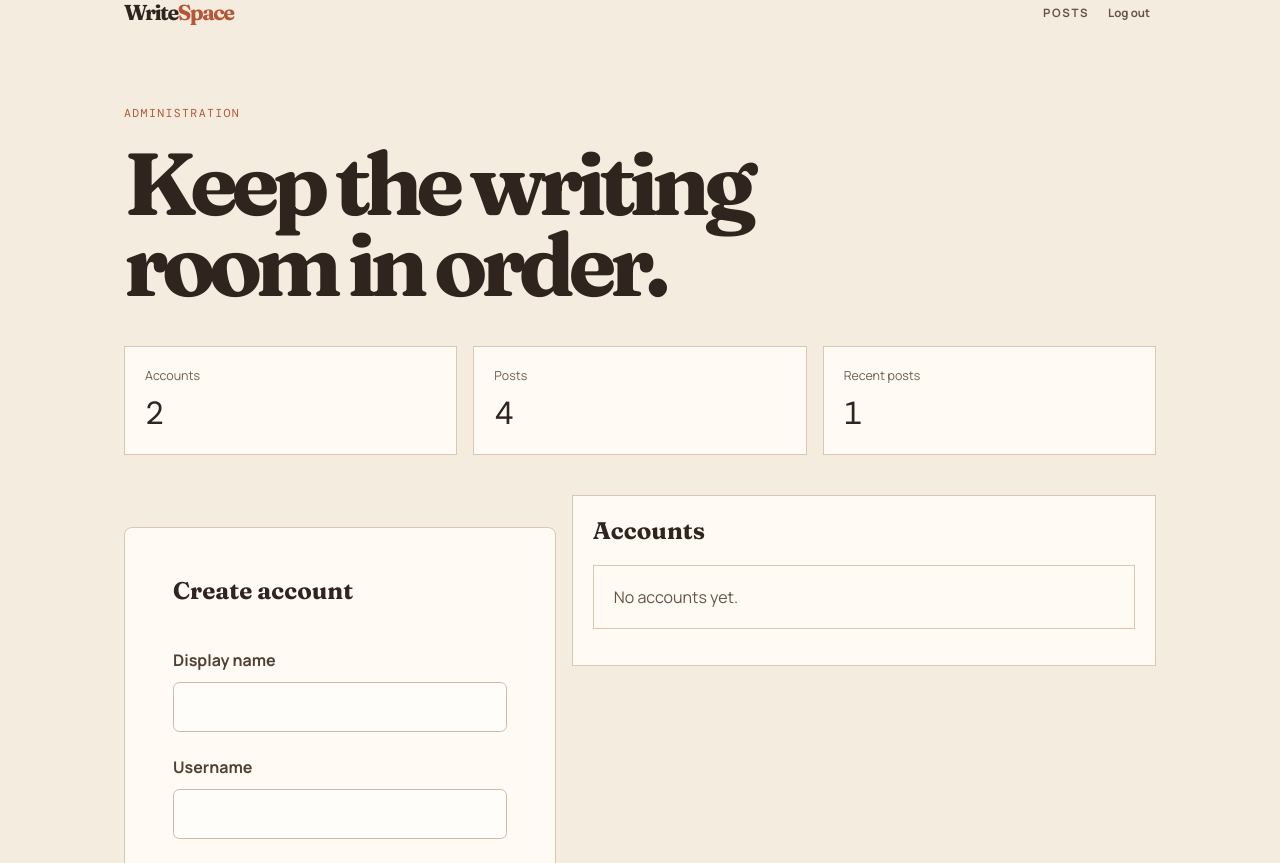
Test case: AdminPage › renders backend statistics and creates an accessible account form
Expected: the heading "Accounts" is shown, [593,516,705,545]
Expected: the text "4" is shown, [494,392,514,434]
Type "New Writer" into the field labelled "Display name" at coordinates (340, 707), box [173,682,507,732]
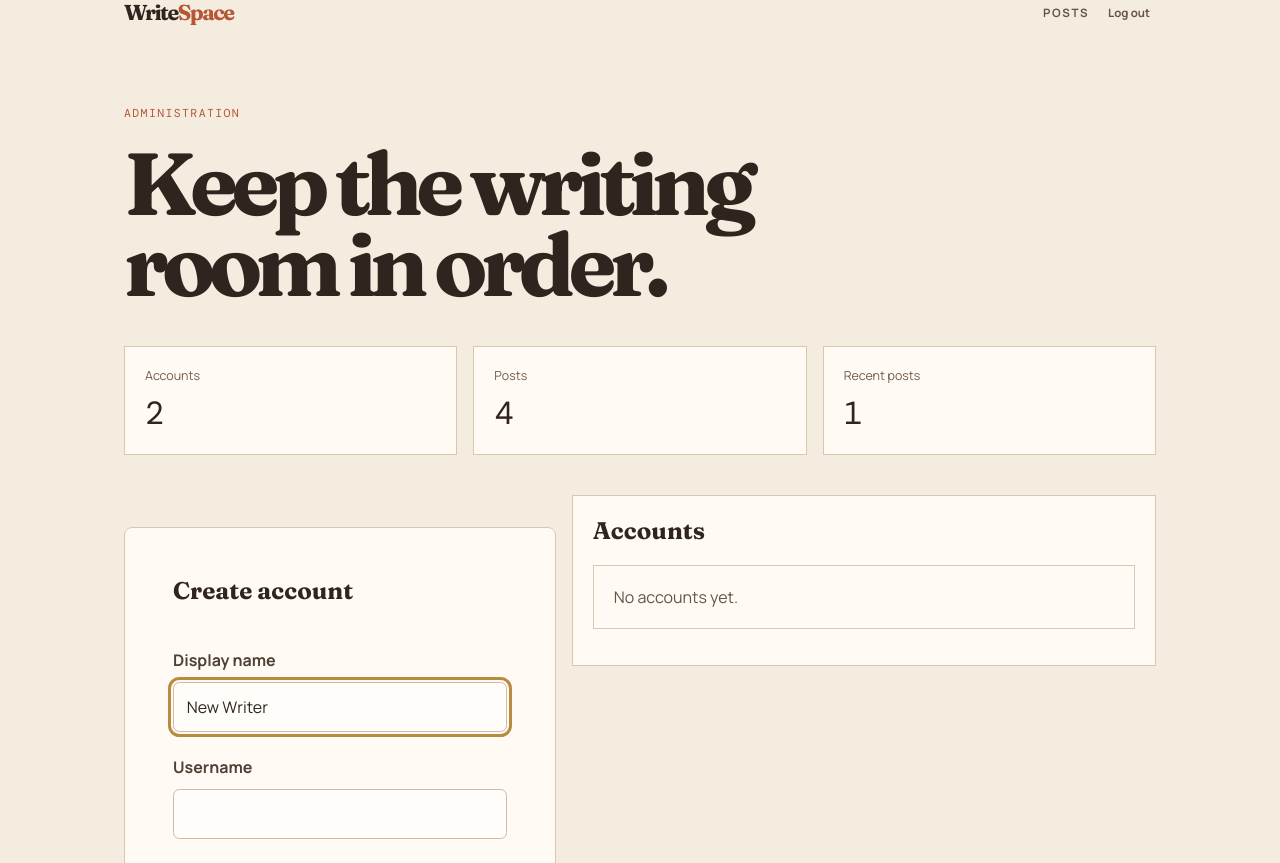
Type "newwriter" into the field labelled "Username" at coordinates (340, 814), box [173,789,507,839]
(page scrolled)
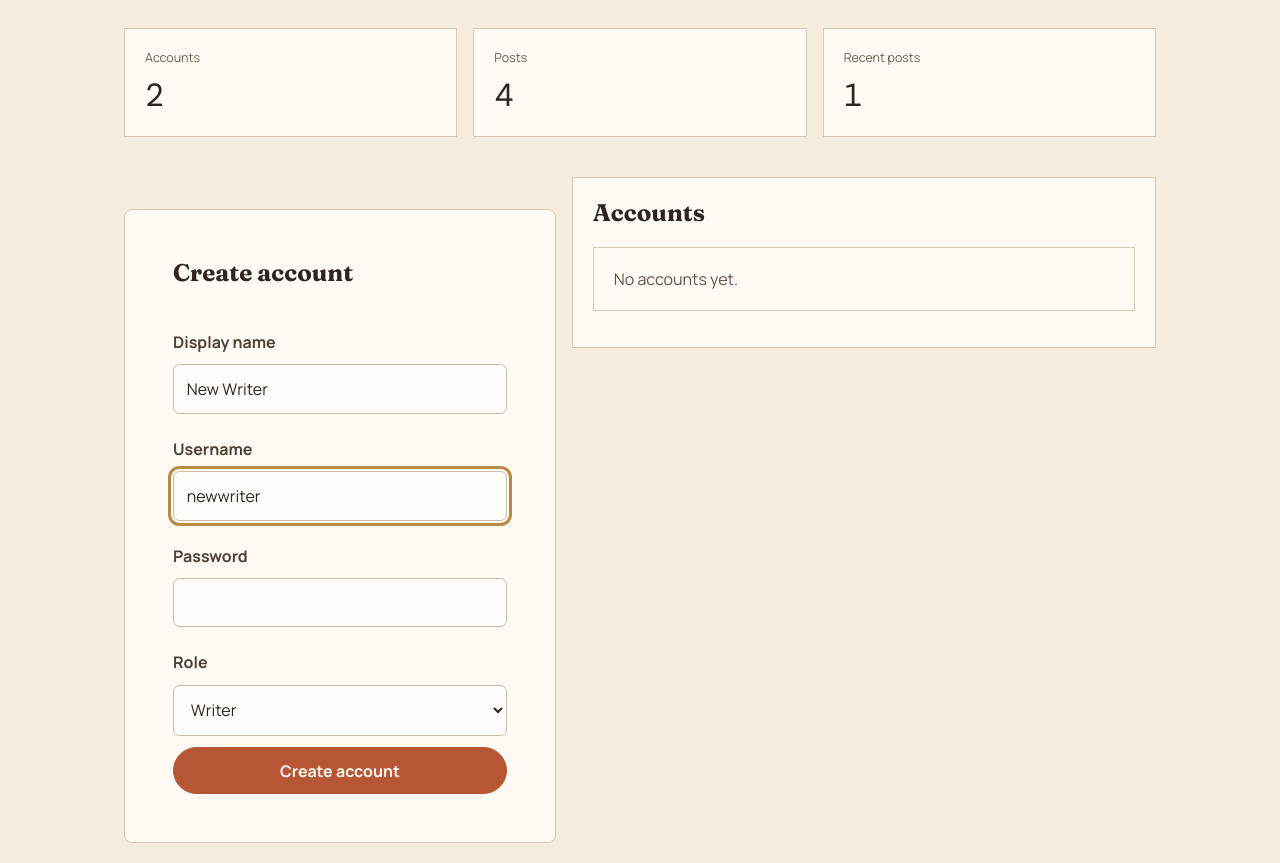
Type "CorrectHorseBattery9" into the password field labelled "Password" at coordinates (340, 603), box [173,578,507,628]
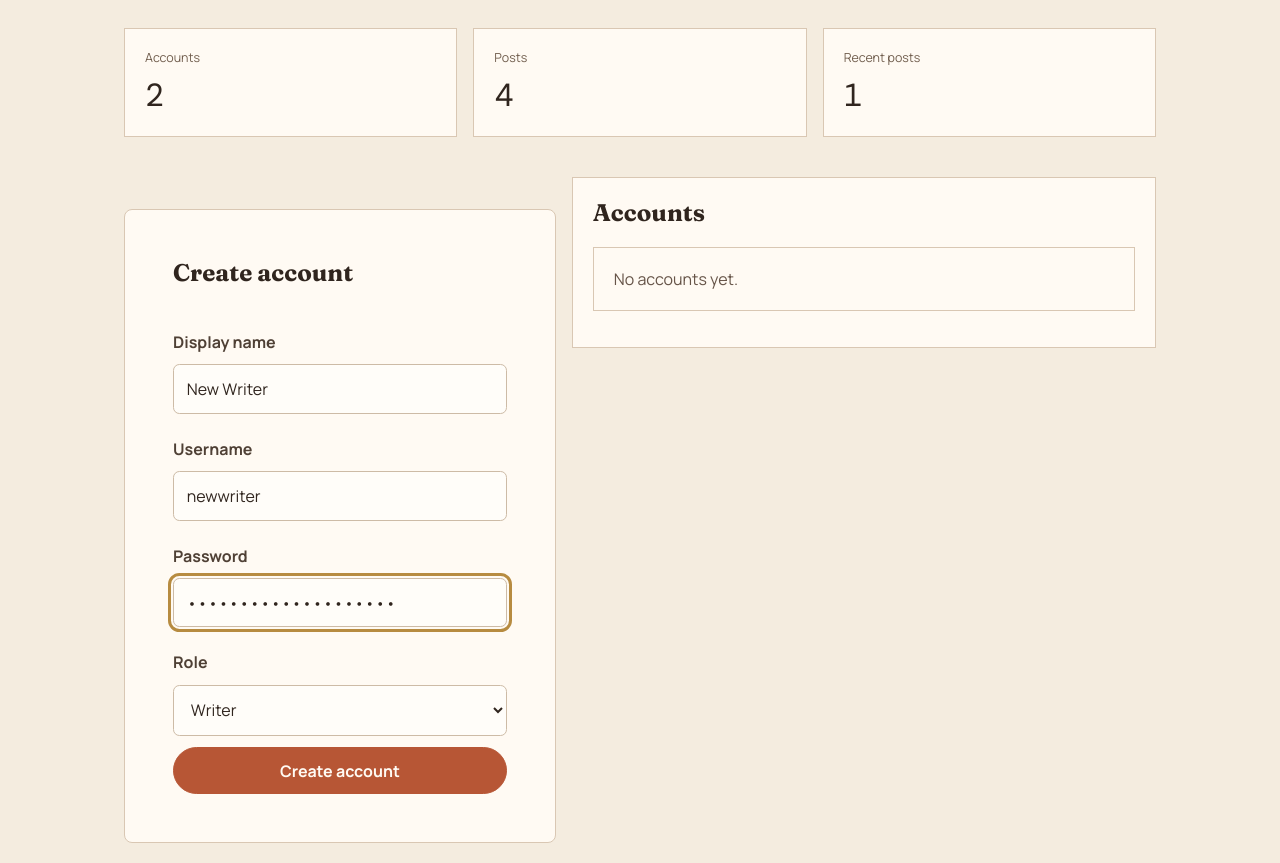
Click the button "Create account" at coordinates (340, 771), box [173,747,507,794]
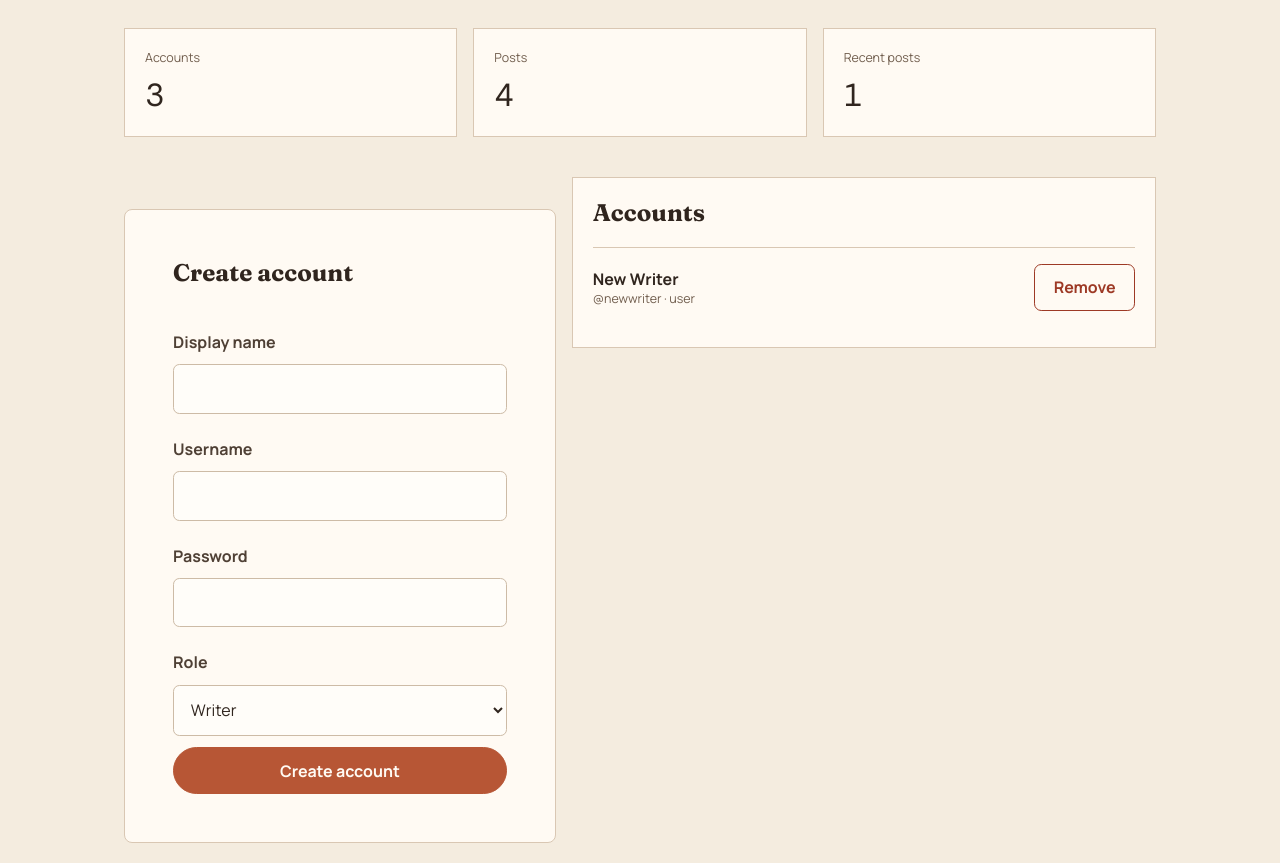
Expected: the text "@newwriter · user" is shown, [593,290,695,307]
